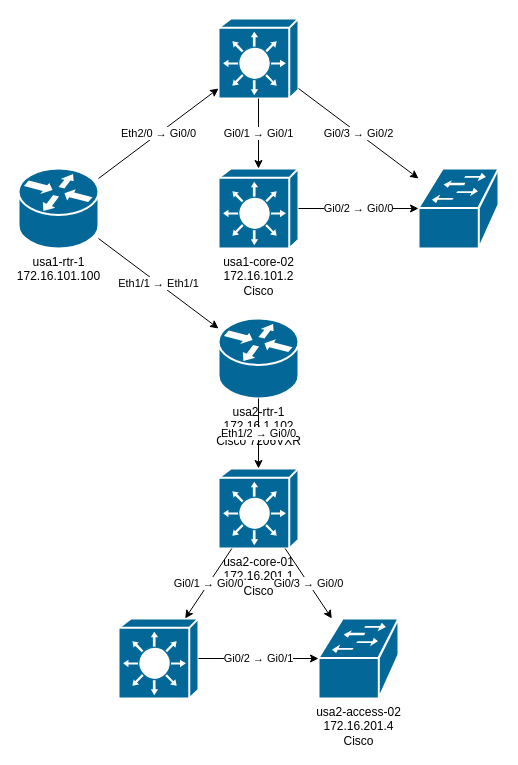
Image size: 518x765. Some labels were removed from this diagram. Each missing label, with the box of its shape:
usa1-access-02 172.16.101.4 Cisco: (417, 167, 499, 249)
usa1-core-01 172.16.101.1 Cisco: (217, 17, 299, 99)
usa2-core-02 172.16.201.2 Cisco: (117, 617, 199, 699)
